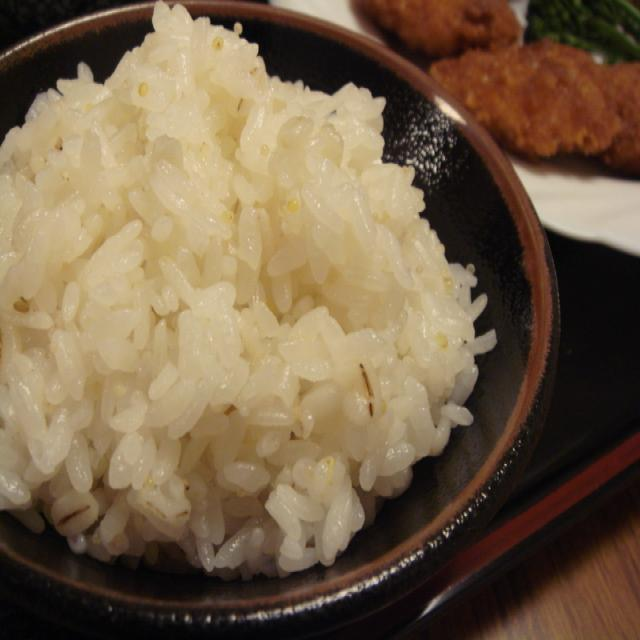rice: (0, 0, 500, 577)
